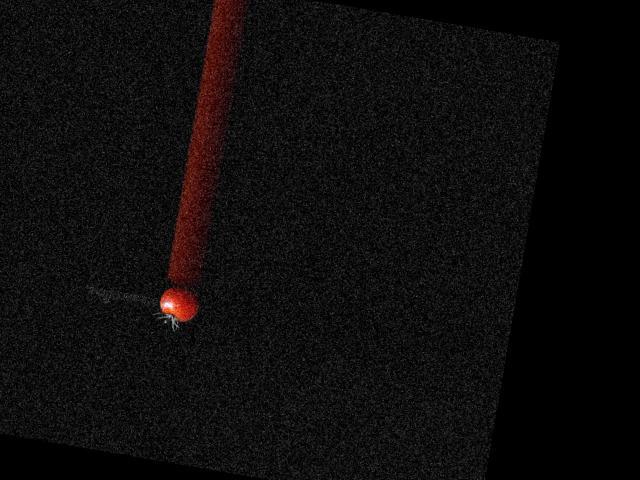tomato: (157, 284, 200, 323)
